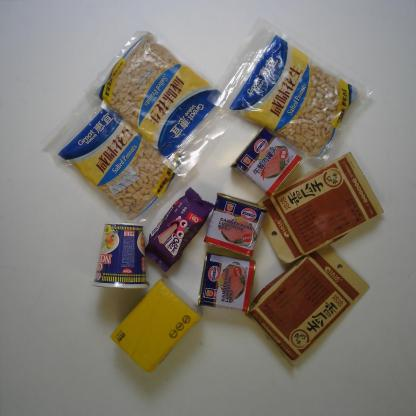Canned Food: (230, 122, 304, 195), (200, 187, 271, 257), (186, 250, 254, 316)
Dessert: (146, 184, 213, 266)
Dried Food: (245, 238, 373, 365), (261, 151, 388, 261)
Dried Fruit: (204, 16, 372, 164), (90, 31, 224, 177), (44, 84, 176, 218)
Instant Noodles: (91, 224, 152, 292)
Tissue: (102, 276, 202, 374)
